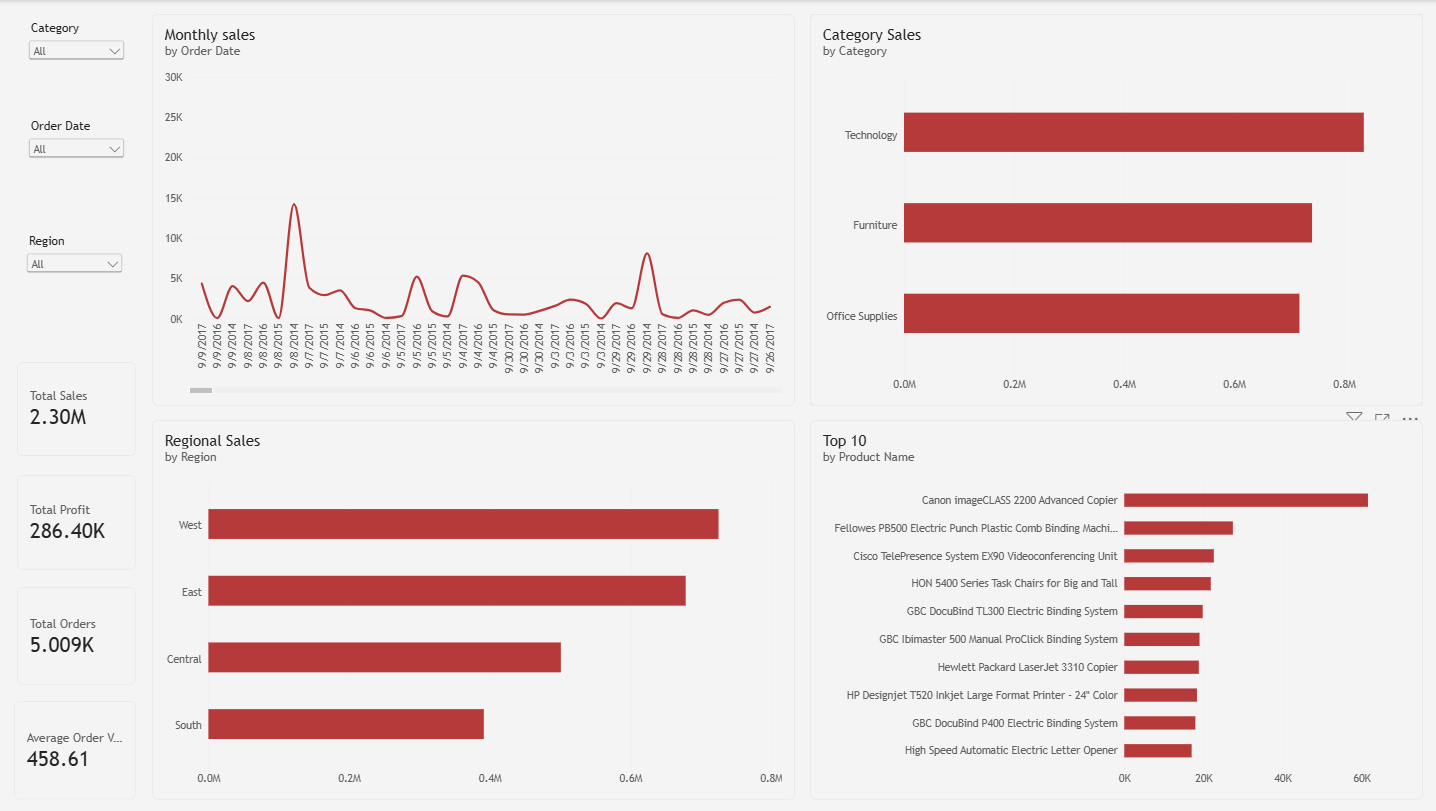

What the dashboard file says about the page in this screenshot:
{"tool":"powerbi","page":{"name":"Page 1","canvas":[1920,1080],"ordinal":0},"visuals":[{"type":"cardVisual","fields":{"Data":["Superstore.Total Sales"]},"box":[25.3,481.5,158.3,125],"z":0},{"type":"cardVisual","fields":{"Data":["Superstore.Total Profit"]},"box":[25.3,631.8,158.3,126.4],"z":1},{"type":"cardVisual","fields":{"Data":["Superstore.Total Orders"]},"box":[25.3,780.7,158.3,130.3],"z":2},{"type":"cardVisual","fields":{"Data":["Superstore.Average Order Value"]},"box":[21.3,932.4,162.3,131.7],"z":3},{"type":"lineChart","fields":{"Category":["Superstore.Order Date"],"Y":["Sum(Superstore.Sales)"]},"box":[204.8,18.6,855.2,521.4],"z":4},{"type":"clusteredBarChart","fields":{"Category":["Superstore.Category"],"Y":["Sum(Superstore.Sales)"]},"box":[1080,18.6,815.3,521.4],"z":5},{"type":"clusteredBarChart","fields":{"Category":["Superstore.Region"],"Y":["Sum(Superstore.Sales)"]},"box":[204.8,558.6,855.2,505.4],"z":6},{"type":"clusteredBarChart","fields":{"Category":["Superstore.Product Name"],"Y":["Sum(Superstore.Sales)"]},"box":[1080,558.6,815.3,505.4],"z":7},{"type":"slicer","fields":{"Values":["Superstore.Order Date"]},"box":[35.9,158.3,137,130.3],"z":8},{"type":"slicer","fields":{"Values":["Superstore.Category"]},"box":[35.9,27.9,137,110.4],"z":9},{"type":"slicer","fields":{"Values":["Superstore.Region"]},"box":[33.3,311.2,137,150.3],"z":10}]}

Visuals, with their boxes in screenshot pixels (x1, y1, x2, y2), scaled from the page's 1920x1080 canvas onto the 1436x811 screenshot:
cardVisual - Superstore.Total Sales: (19, 362, 137, 455)
cardVisual - Superstore.Total Profit: (19, 474, 137, 569)
cardVisual - Superstore.Total Orders: (19, 586, 137, 684)
cardVisual - Superstore.Average Order Value: (16, 700, 137, 799)
lineChart - Superstore.Order Date x Sum(Superstore.Sales): (153, 14, 793, 406)
clusteredBarChart - Superstore.Category x Sum(Superstore.Sales): (808, 14, 1418, 406)
clusteredBarChart - Superstore.Region x Sum(Superstore.Sales): (153, 419, 793, 799)
clusteredBarChart - Superstore.Product Name x Sum(Superstore.Sales): (808, 419, 1418, 799)
slicer - Superstore.Order Date: (27, 119, 129, 217)
slicer - Superstore.Category: (27, 21, 129, 104)
slicer - Superstore.Region: (25, 234, 127, 347)
